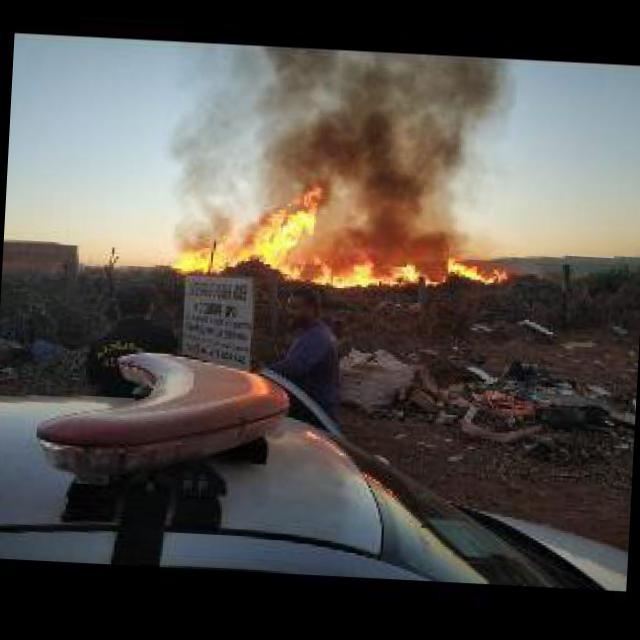fire: (170, 186, 324, 284), (316, 250, 512, 294)
smoke: (256, 42, 524, 258)
